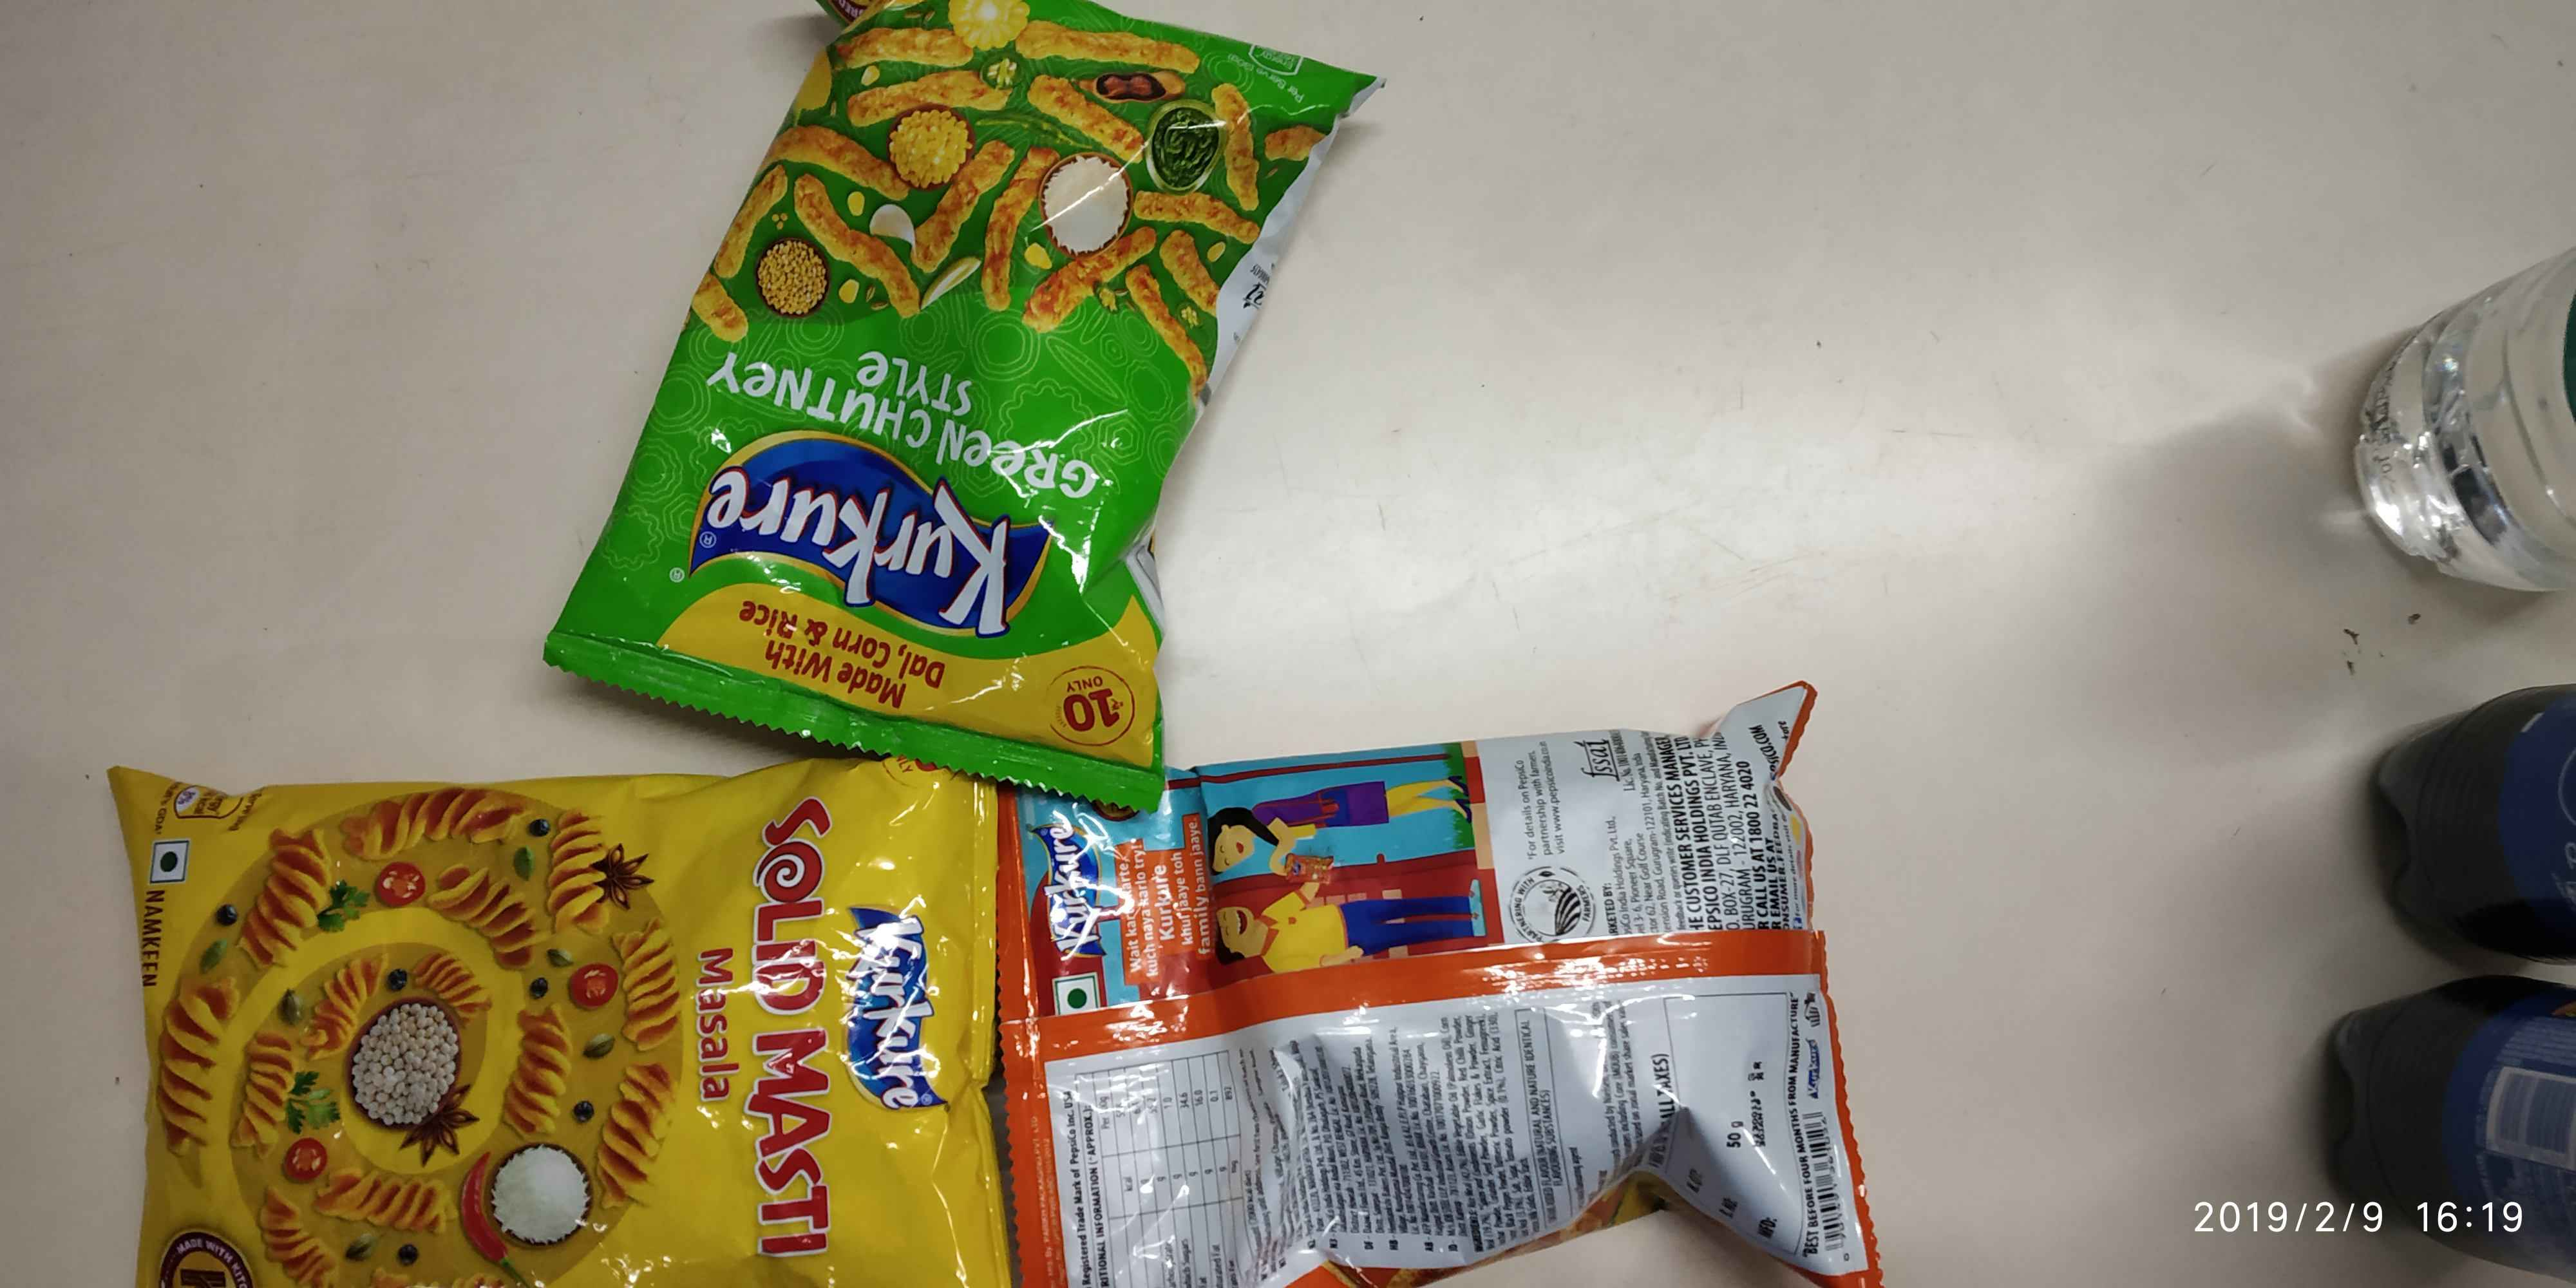kurkure: (675, 442, 1061, 624), (839, 894, 963, 1129), (1023, 800, 1112, 976)
